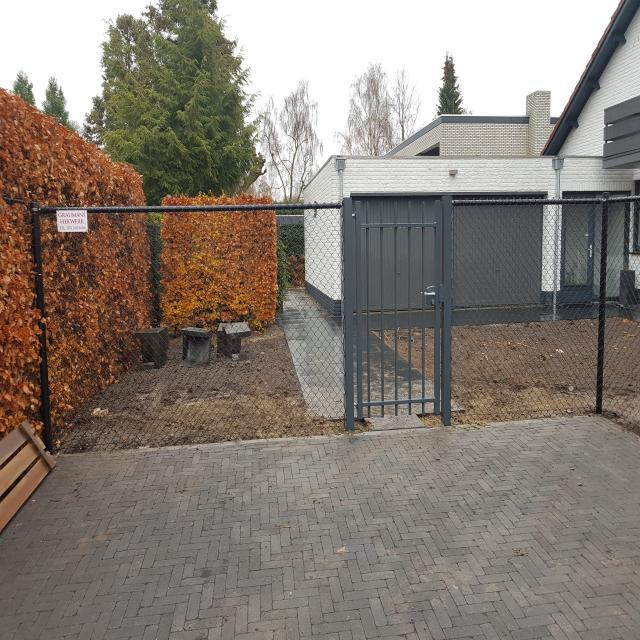fence line: (40, 192, 474, 460), (460, 201, 640, 459)
